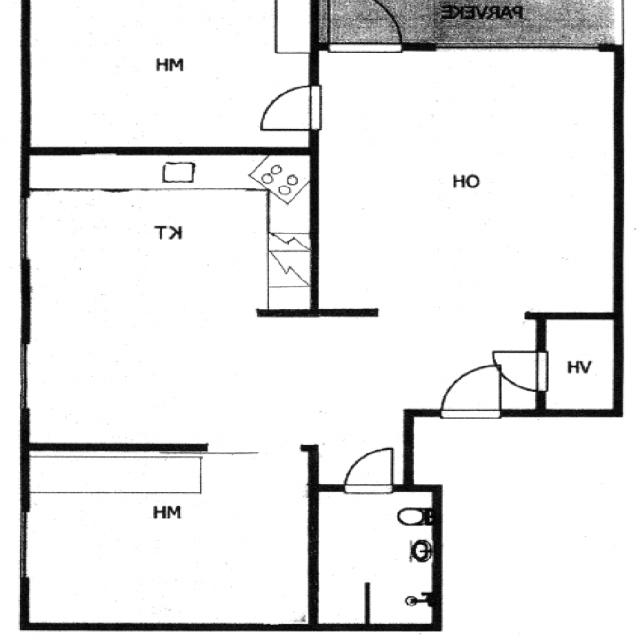door: (328, 0, 402, 52), (442, 360, 500, 417), (258, 85, 319, 129), (490, 351, 547, 390), (346, 447, 392, 492)
